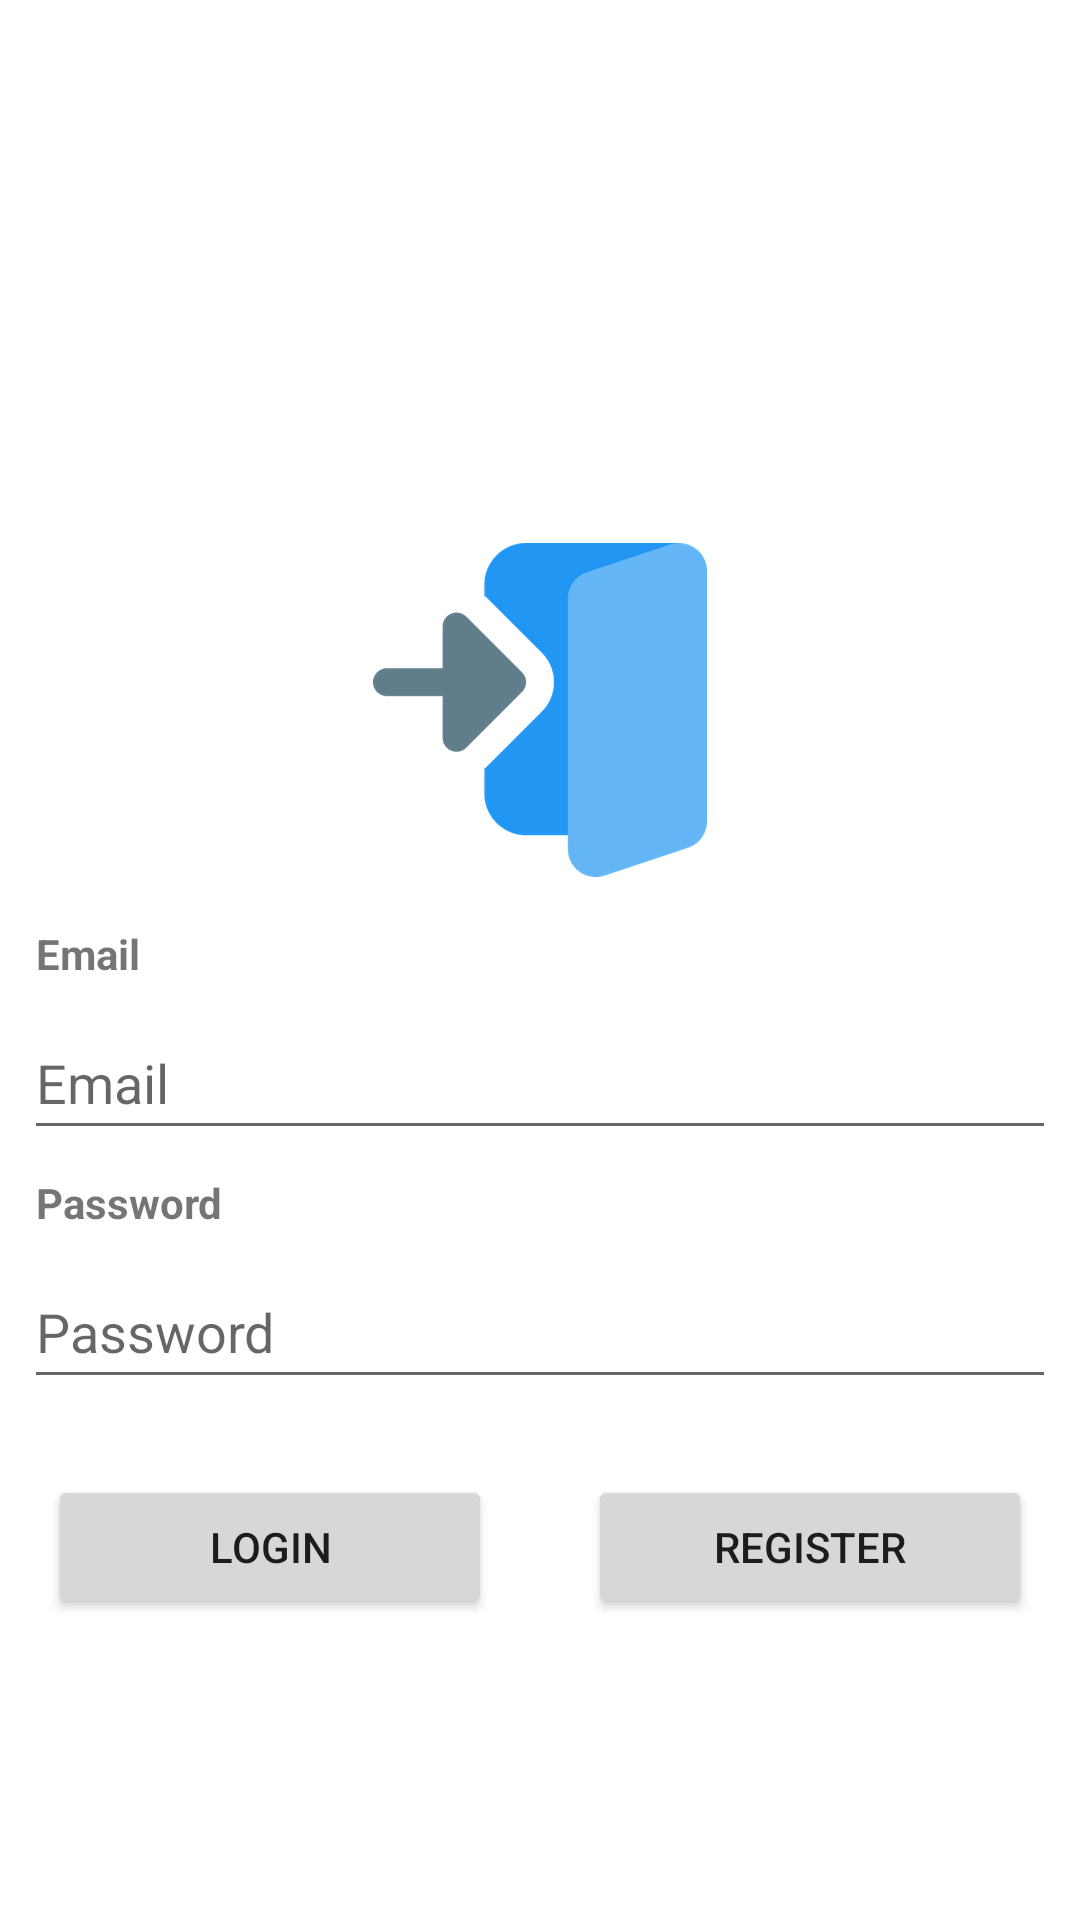

Point at icon controls on the screen. Image size 1080×1920, points as (x=x, y=y).
Login Icon: (x=540, y=710)
